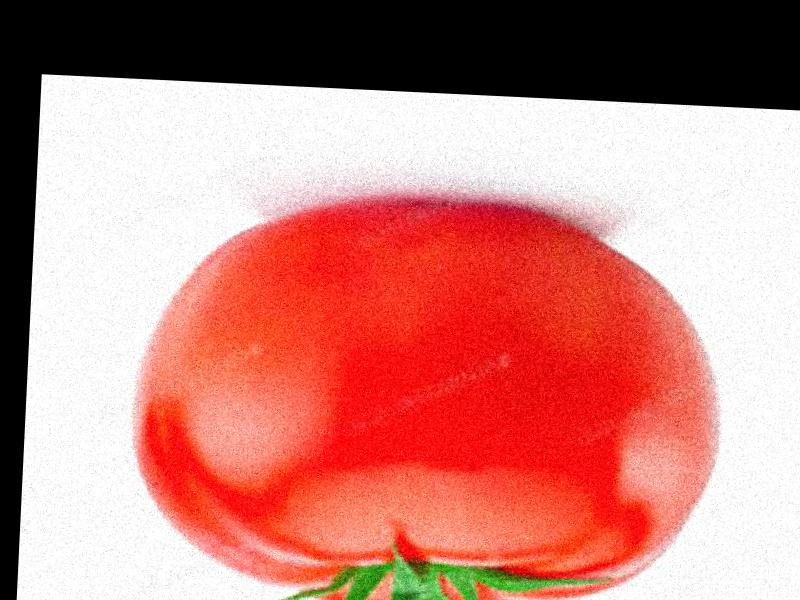Tomato: (125, 199, 729, 600)
